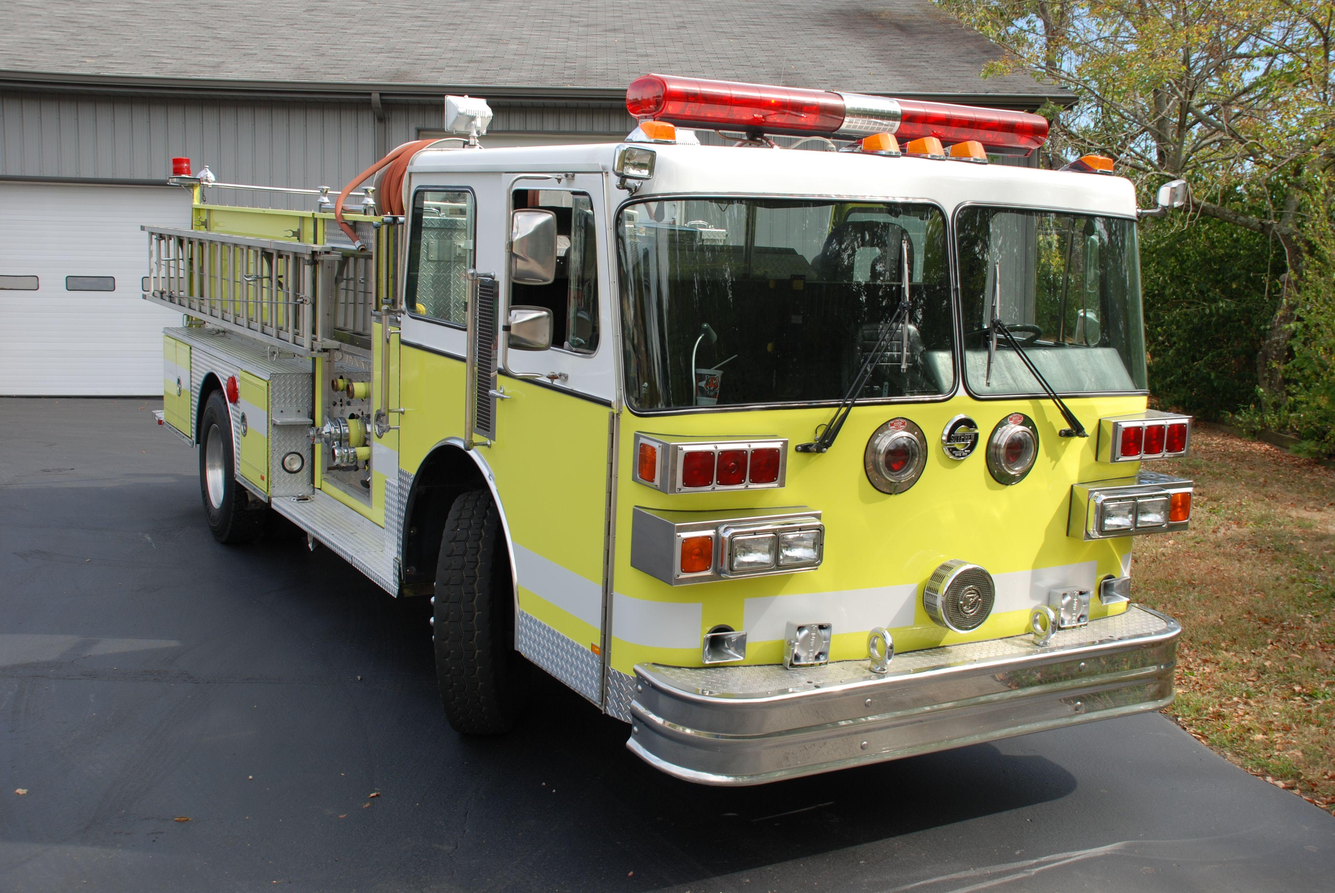Fire-engine: (139, 72, 1196, 789)
